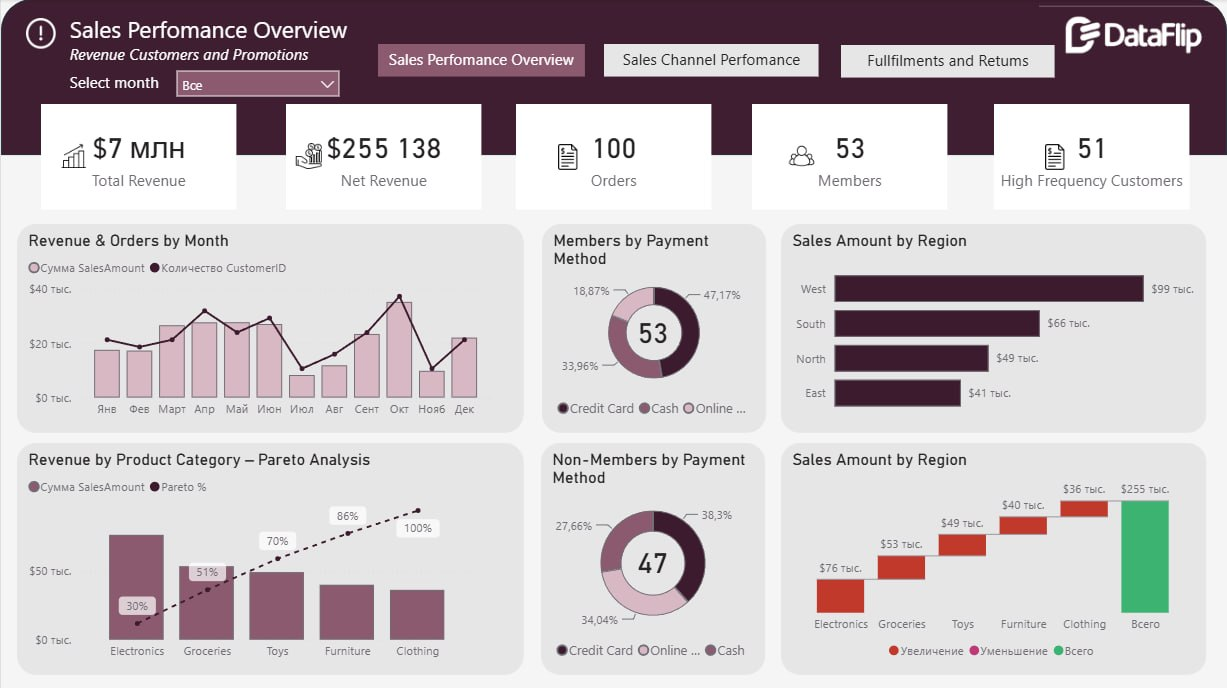

The dashboard page shown, as its layout file describes it:
{"tool":"powerbi","page":{"name":"Страница 1","canvas":[1280,720],"ordinal":0},"visuals":[{"type":"shape","box":[0,0,1280,163.4],"z":0},{"type":"lineClusteredColumnComboChart","title":"Revenue & Orders by Month","fields":{"Y":["Sum(dataset.SalesAmount)"],"Y2":["CountNonNull(dataset.CustomerID)"],"Category":["dataset.Month Short"]},"box":[16.7,234.9,529.3,218.2],"z":1000},{"type":"textbox","box":[67,9.4,333.1,91.1],"z":2000},{"type":"image","box":[25.8,19.6,31.1,32],"z":3000},{"type":"slicer","fields":{"Values":["dataset.Date.Изменение.Иерархия дат.Месяц"]},"box":[173.3,64.7,190,44.9],"z":4000},{"type":"textbox","box":[67,71.2,122.6,38.8],"z":5000},{"type":"card","fields":{"Values":["Sum(dataset.SalesAmount)"]},"box":[297.5,110,204.3,110],"z":6000},{"type":"card","fields":{"Values":["Sum(dataset.Income)"]},"box":[41.9,110,204.3,110],"z":7000},{"type":"card","fields":{"Values":["Count(dataset.CustomerID)"]},"box":[537.3,110,204.3,110],"z":8000},{"type":"card","title":"Memembership","fields":{"Values":["dataset.Members Yes"]},"box":[784.5,110,204.3,110],"z":9000},{"type":"card","fields":{"Values":["dataset.High Frequency Customers"]},"box":[1037,110,204.3,110],"z":10000},{"type":"lineClusteredColumnComboChart","title":"Revenue by Product Category – Pareto Analysis","fields":{"Y":["Sum(dataset.SalesAmount)"],"Category":["dataset.ProductCategory"],"Y2":["dataset.Pareto %"]},"box":[16.7,463.6,529.3,242.2],"z":11000},{"type":"donutChart","title":"Members by Payment Method","fields":{"Category":["dataset.PreferredPaymentMethod"],"Y":["dataset.Members Yes"]},"box":[564.8,234.9,233.9,218.2],"z":12000},{"type":"card","fields":{"Values":["dataset.Members Yes"]},"box":[634.8,310.1,90.8,74.1],"z":13000},{"type":"clusteredBarChart","title":"Sales Amount by Region","fields":{"Category":["dataset.Region"],"Y":["Sum(dataset.SalesAmount)"]},"box":[814.4,234.9,443.7,218.2],"z":14000},{"type":"waterfallChart","title":"Sales Amount by Region","fields":{"Y":["Sum(dataset.SalesAmount)"],"Category":["dataset.ProductCategory"]},"box":[814.4,463.6,443.7,242.2],"z":15000},{"type":"image","box":[1083.7,0,196.3,78.3],"z":16000},{"type":"donutChart","title":"Non-Members by Payment Method","fields":{"Category":["dataset.PreferredPaymentMethod"],"Y":["dataset.Members No"]},"box":[563.8,463.6,233.9,242.2],"z":17000},{"type":"card","fields":{"Values":["dataset.Members No"]},"box":[634.8,550.2,90.8,74.1],"z":18000},{"type":"textbox","box":[393.6,47,216.1,34.5],"z":19000},{"type":"textbox","box":[629.6,47,224.5,34.5],"z":20000},{"type":"textbox","box":[877,48,223.4,34.5],"z":21000},{"type":"image","box":[57.4,150.3,36.5,27.1],"z":22000},{"type":"image","box":[302.8,150.3,36.5,27.1],"z":23000},{"type":"image","box":[573.2,151.4,36.5,27.1],"z":24000},{"type":"image","box":[817.5,150.3,36.5,27.1],"z":25000},{"type":"image","box":[1081.6,151.4,36.5,27.1],"z":26000}]}

Visuals, with their boxes in screenshot pixels (x1, y1, x2, y2), scaled from the page's 1280x720 canvas onto the 1227x688 screenshot:
shape: (x1=0, y1=0, x2=1226, y2=156)
"Revenue & Orders by Month" lineClusteredColumnComboChart: (x1=16, y1=224, x2=523, y2=433)
textbox: (x1=64, y1=9, x2=384, y2=96)
image: (x1=25, y1=19, x2=55, y2=49)
slicer - dataset.Date.Изменение.Иерархия дат.Месяц: (x1=166, y1=62, x2=348, y2=105)
textbox: (x1=64, y1=68, x2=182, y2=105)
card - Sum(dataset.SalesAmount): (x1=285, y1=105, x2=481, y2=210)
card - Sum(dataset.Income): (x1=40, y1=105, x2=236, y2=210)
card - Count(dataset.CustomerID): (x1=515, y1=105, x2=711, y2=210)
"Memembership" card: (x1=752, y1=105, x2=948, y2=210)
card - dataset.High Frequency Customers: (x1=994, y1=105, x2=1190, y2=210)
"Revenue by Product Category – Pareto Analysis" lineClusteredColumnComboChart: (x1=16, y1=443, x2=523, y2=674)
"Members by Payment Method" donutChart: (x1=541, y1=224, x2=766, y2=433)
card - dataset.Members Yes: (x1=609, y1=296, x2=696, y2=367)
"Sales Amount by Region" clusteredBarChart: (x1=781, y1=224, x2=1206, y2=433)
"Sales Amount by Region" waterfallChart: (x1=781, y1=443, x2=1206, y2=674)
image: (x1=1039, y1=0, x2=1226, y2=75)
"Non-Members by Payment Method" donutChart: (x1=540, y1=443, x2=765, y2=674)
card - dataset.Members No: (x1=609, y1=526, x2=696, y2=597)
textbox: (x1=377, y1=45, x2=584, y2=78)
textbox: (x1=604, y1=45, x2=819, y2=78)
textbox: (x1=841, y1=46, x2=1055, y2=79)
image: (x1=55, y1=144, x2=90, y2=170)
image: (x1=290, y1=144, x2=325, y2=170)
image: (x1=549, y1=145, x2=584, y2=171)
image: (x1=784, y1=144, x2=819, y2=170)
image: (x1=1037, y1=145, x2=1072, y2=171)
